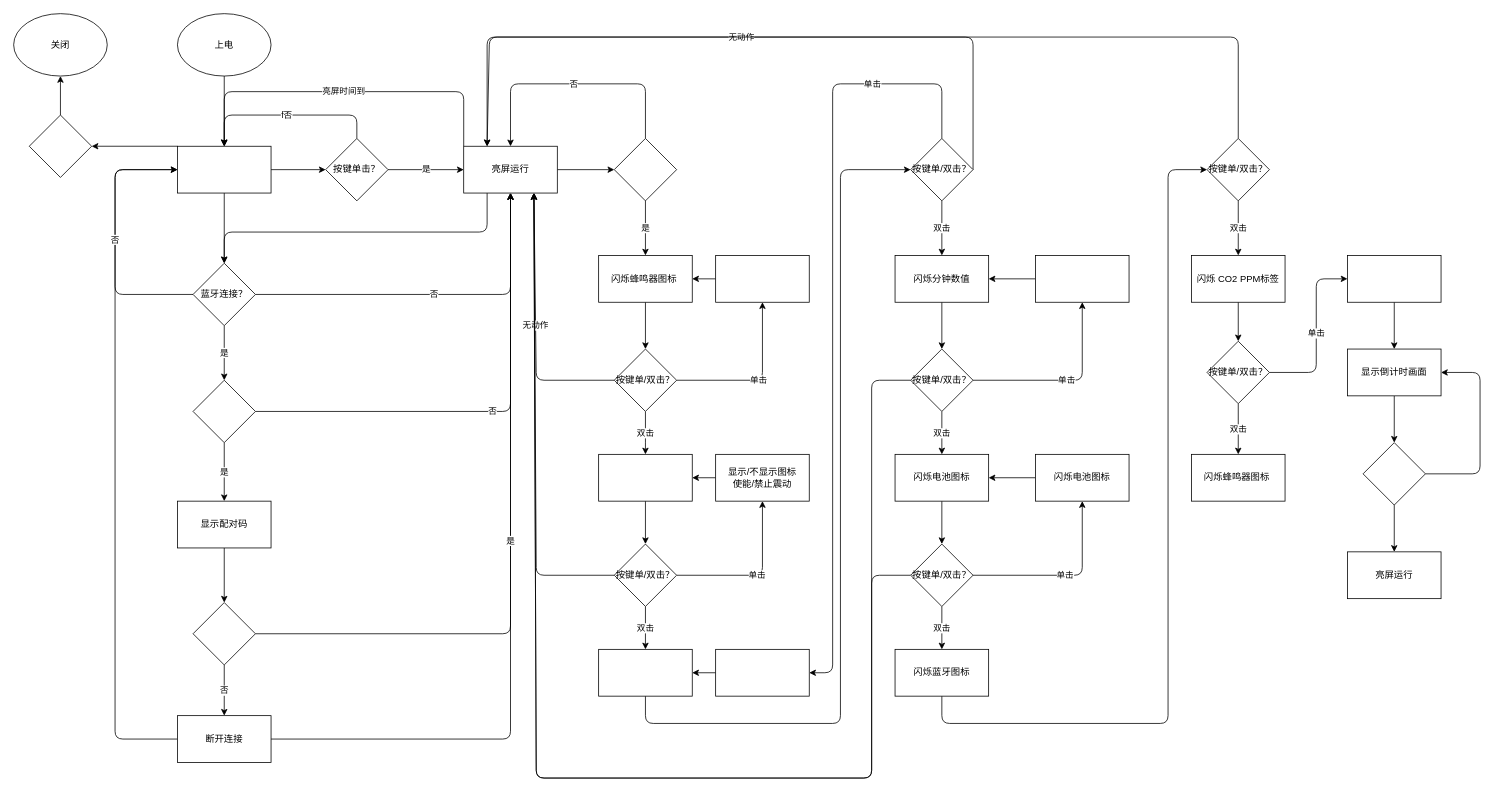
Some shapes in this 1500 by 798 pixel diagram are drawn without their labels. The box of each missing label's shape, as (x1, y1, x2, y2) in pixels:
增加分钟数值: (1035, 255, 1129, 302)
增加小时数值: (715, 649, 809, 696)
开始传感器校准: (1347, 255, 1441, 302)
息屏运行: (177, 145, 271, 193)
按键双击？: (613, 138, 677, 201)
显示/不显示图标 使能/禁止蜂鸣器: (715, 255, 809, 302)
校准完成？: (1362, 442, 1425, 505)
校验通过？: (192, 602, 255, 665)
电量低？: (28, 114, 92, 177)
蓝牙配对？: (192, 379, 255, 443)
闪烁小时数值: (598, 649, 692, 696)
闪烁震动图标: (598, 454, 692, 501)
